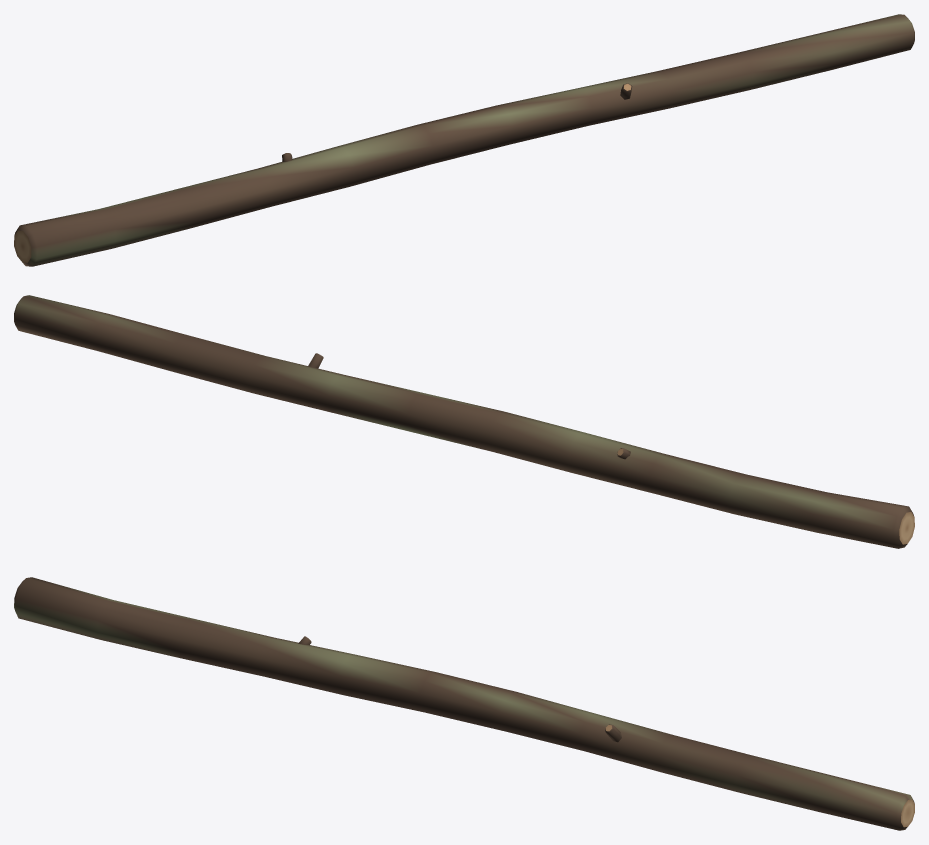
Rendered from pole.glb.
The picture shows the model from 3 angles, top to bottom: view 1: azimuth 30°, elevation 25°; view 2: azimuth 150°, elevation 25°; view 3: azimuth 330°, elevation 25°; orthographic projection.
Visible parts, largest first — view 1: pole; view 2: pole; view 3: pole.
Part boxes in pixels (x1,y1,x2,y2): pole: (14,14,914,266); pole: (14,295,914,548); pole: (14,577,914,830).
Bounding box in the file's own units: 2.02 × 0.1007 × 0.0987.
